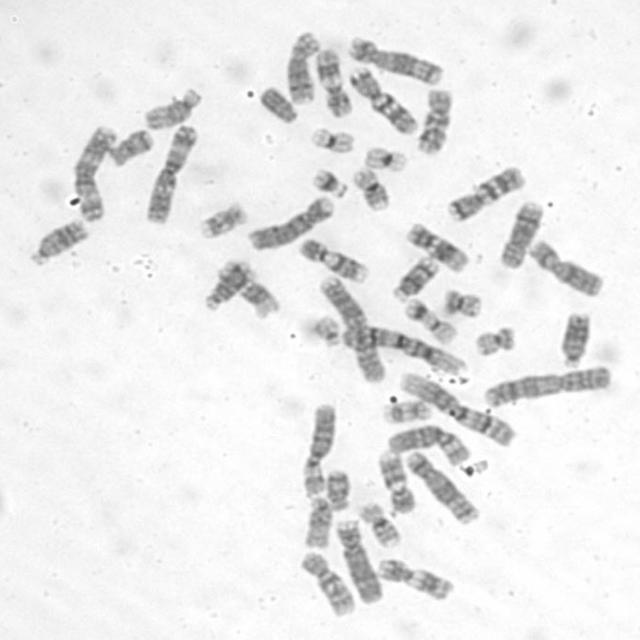A1: (394, 369, 518, 448), (337, 321, 469, 377)
A2: (314, 270, 389, 386), (480, 362, 614, 409)
A3: (142, 120, 199, 226), (71, 122, 118, 222)
B4: (244, 192, 336, 252), (332, 515, 384, 605)
B5: (403, 447, 480, 526), (345, 34, 444, 86)
C10: (295, 547, 359, 619), (412, 85, 457, 156)
C11: (373, 554, 456, 603), (312, 44, 354, 119)
C12: (216, 257, 282, 319), (402, 217, 471, 275)
C6: (383, 419, 473, 466), (298, 398, 338, 496)
C7: (346, 61, 420, 137), (443, 162, 527, 223)
C8: (495, 197, 546, 270), (282, 28, 322, 106)
C9: (296, 234, 371, 283), (374, 445, 418, 515)
D13: (24, 214, 92, 268), (555, 307, 593, 369)
D14: (200, 258, 256, 313), (388, 255, 440, 303)
D15: (141, 85, 202, 132), (301, 492, 334, 552)
E16: (355, 498, 404, 549), (349, 164, 392, 213)
E17: (194, 198, 248, 241), (380, 398, 434, 426)
E18: (105, 125, 156, 168), (321, 467, 353, 512)
F19: (360, 143, 409, 174), (307, 124, 356, 155)
F20: (470, 323, 519, 357), (437, 286, 484, 320)
G21: (309, 165, 349, 199), (401, 295, 433, 324)
G22: (423, 315, 460, 347), (311, 311, 342, 349)
X: (527, 235, 607, 299)
Y: (255, 83, 300, 124)
